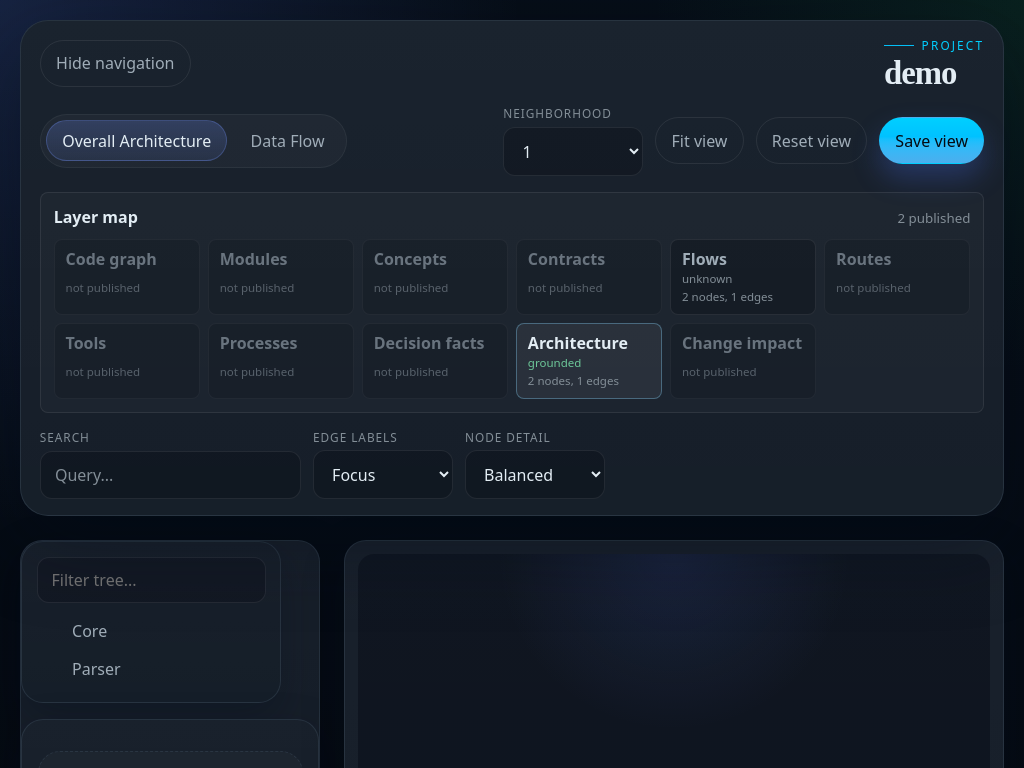
Test: cotx-workbench route › clicking a tree node populates the inspector with node details
The width and height of the screenshot is (1024, 768).
Click the button "Core". click: (90, 631)
box: top-left (72, 620), bottom-right (107, 642)
(page scrolled)
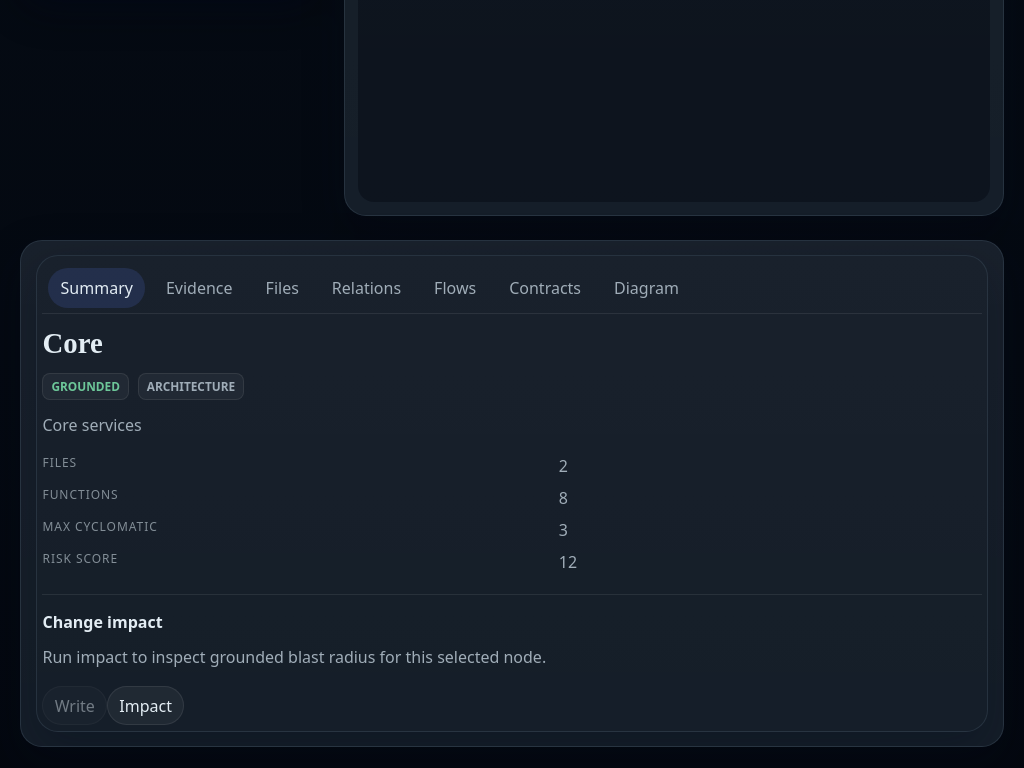
Expected: the element with test id "architecture-inspector" is shown, top-left (36, 256), bottom-right (988, 732)
Expected: the text "Core services" is shown, top-left (42, 414), bottom-right (142, 436)
